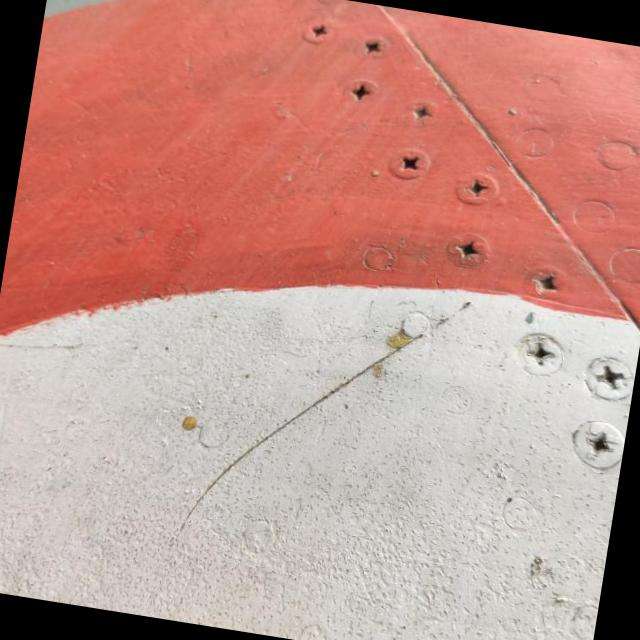Scratch: (162, 314, 452, 540)
